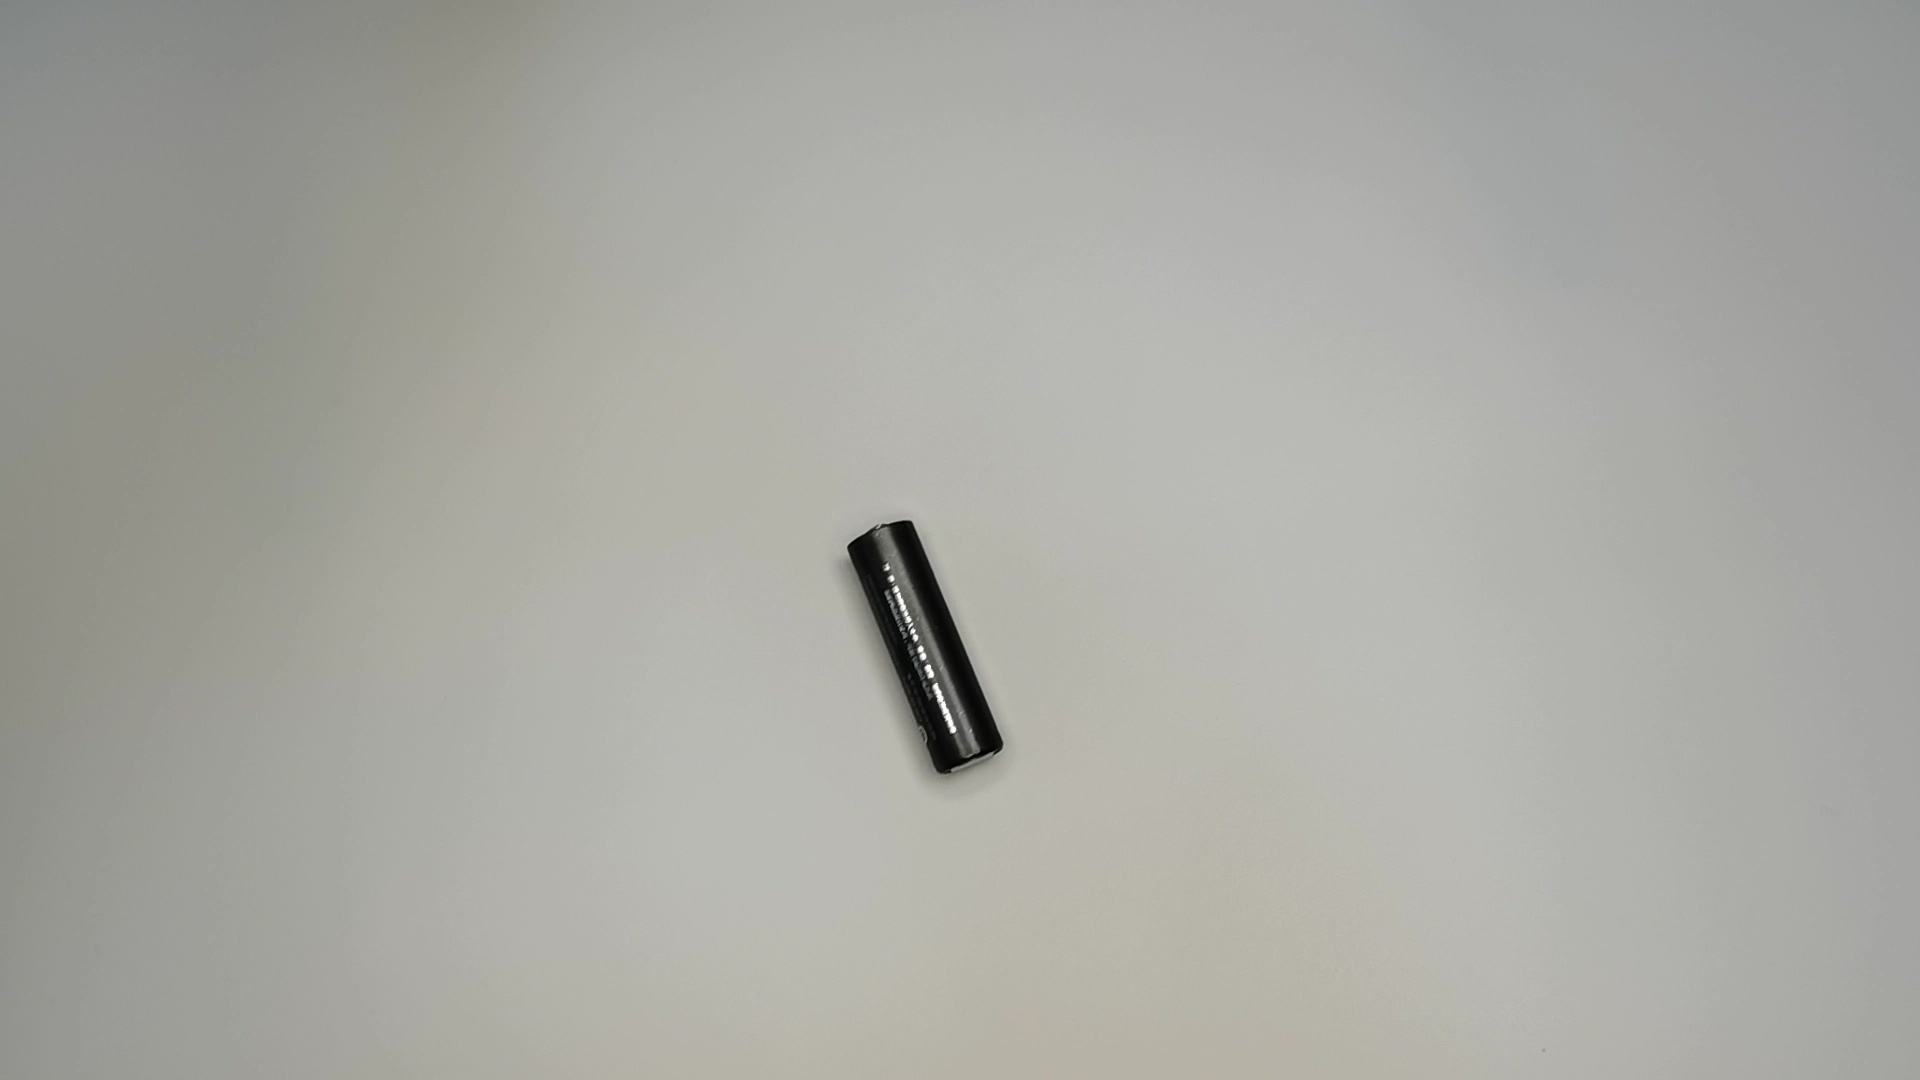battery: (840, 512, 1021, 787)
